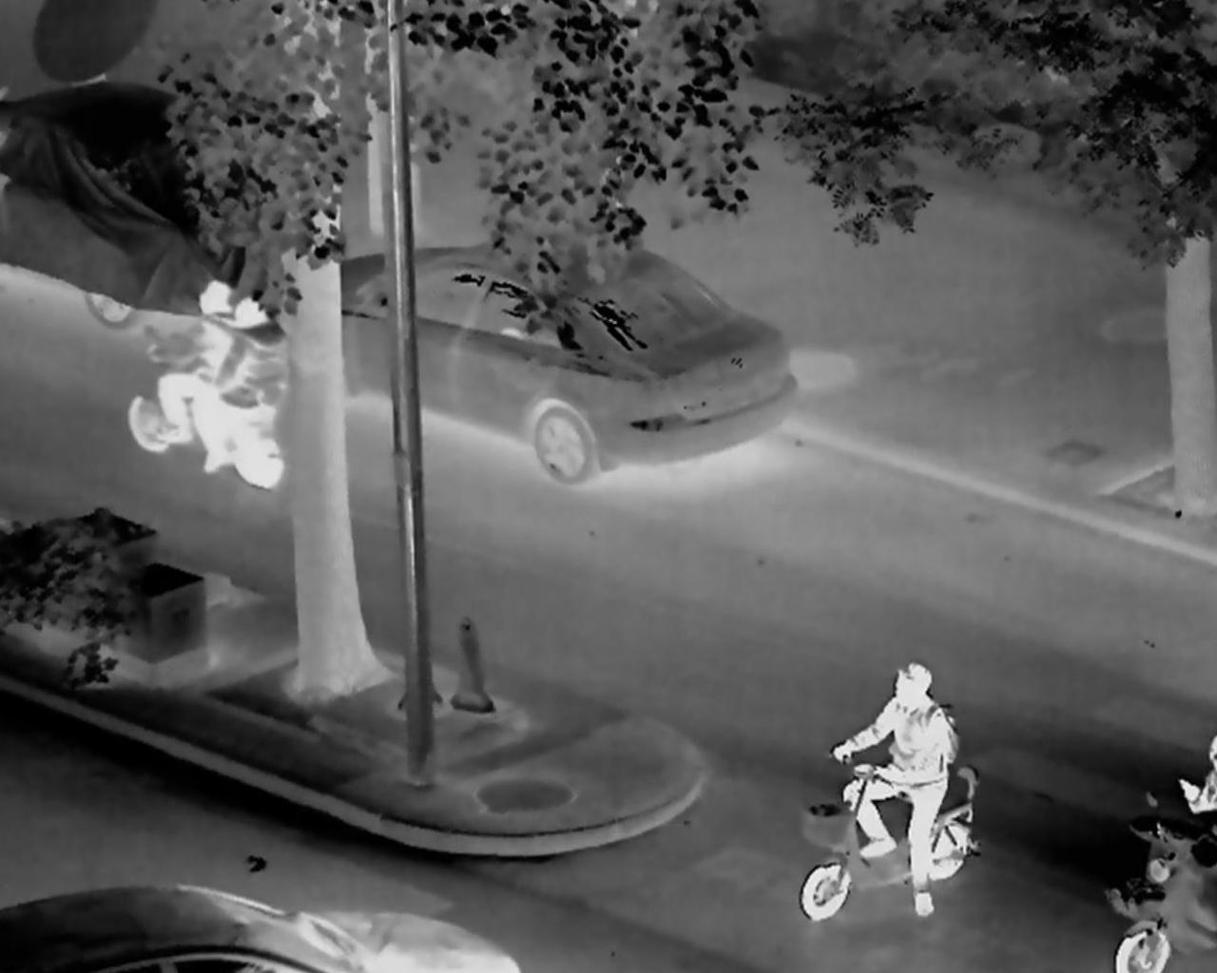person: (831, 660, 951, 918), (190, 301, 278, 474), (146, 282, 232, 441)
